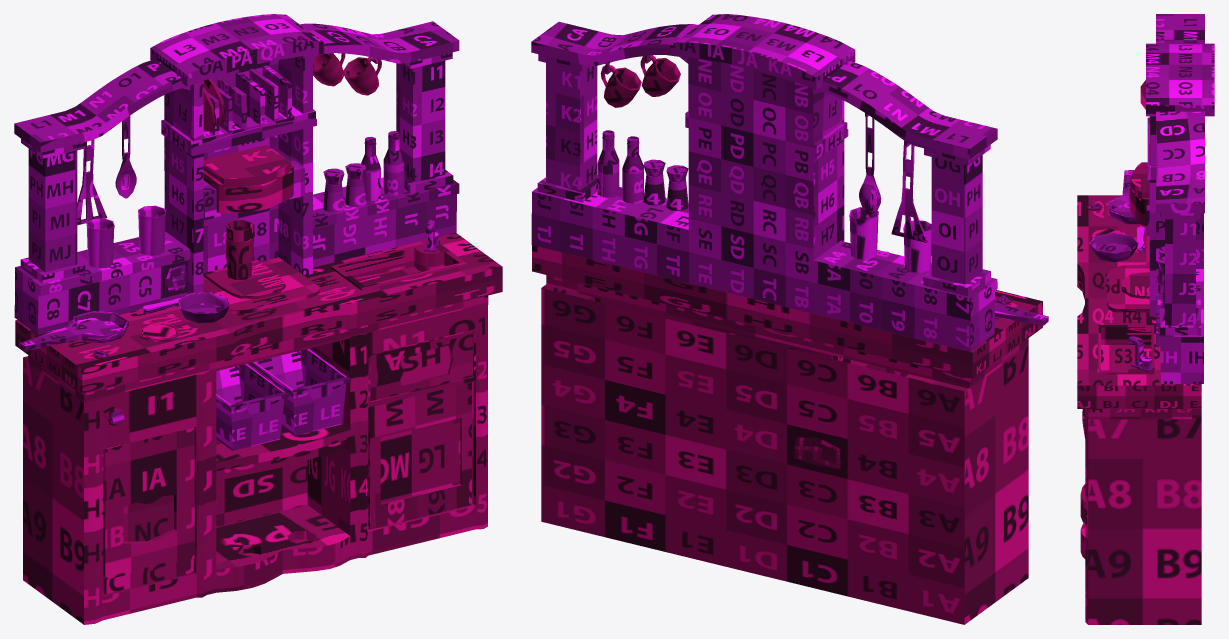
The model's file is ToyModel005.fbx.
3 renders of one model, left to right at view 1: azimuth 30°, elevation 25°; view 2: azimuth 150°, elevation 25°; view 3: azimuth 270°, elevation 25°, orthographic. The views are drawn at different scales.
Parts seen in each view (by area): view 1: White_Low, lightPink_Low, darkPink_Low, Oven_Door_Low, Fridge_Door_Low, Basket1_Low, Basket2_Low, Microwave_Door_Low, Coffee_Maker_Top_Low, Coffee_Maker_Base_Low, Pan_Low, Thermos_Low (+11 smaller); view 2: lightPink_Low, White_Low, darkPink_Low, Spatula_Low, Cup1_Low1, Sauce2_Low, Sauce1_Low, Cup1_Low, Laddle_Low, Mug_Base_Low1, Mug_Base_Low, PepperShaker_Low1 (+2 smaller); view 3: lightPink_Low, White_Low, darkPink_Low, Bowl1_Low, Pan_Low, Coffee_Maker_Top_Low, Coffee_Maker_Base_Low, Faucet_Low, PepperShaker_Low1.
Boxes of the visible parts, box(x1,y1,x2,y2) form: White_Low: box(14, 14, 459, 334); lightPink_Low: box(23, 304, 487, 624); darkPink_Low: box(15, 233, 502, 402); Oven_Door_Low: box(103, 427, 194, 594); Fridge_Door_Low: box(368, 382, 471, 529); Basket1_Low: box(248, 348, 351, 435); Basket2_Low: box(216, 363, 289, 450); Microwave_Door_Low: box(370, 331, 472, 401); Coffee_Maker_Top_Low: box(203, 144, 291, 187); Coffee_Maker_Base_Low: box(203, 165, 293, 213); Pan_Low: box(20, 311, 128, 351); Thermos_Low: box(225, 220, 253, 279); lightPink_Low: box(541, 284, 1028, 624); White_Low: box(531, 14, 997, 351); darkPink_Low: box(532, 245, 1042, 388); Spatula_Low: box(891, 141, 927, 242); Cup1_Low1: box(849, 207, 878, 259); Sauce2_Low: box(597, 130, 619, 197); Sauce1_Low: box(622, 136, 643, 203); Cup1_Low: box(903, 220, 931, 272); Laddle_Low: box(859, 117, 881, 215); Mug_Base_Low1: box(604, 67, 641, 107); Mug_Base_Low: box(641, 58, 680, 96); PepperShaker_Low1: box(643, 159, 665, 205); lightPink_Low: box(1080, 409, 1201, 624); White_Low: box(1146, 14, 1214, 383); darkPink_Low: box(1077, 195, 1201, 419); Bowl1_Low: box(1089, 232, 1138, 261); Pan_Low: box(1108, 170, 1139, 224); Coffee_Maker_Top_Low: box(1130, 162, 1149, 199); Coffee_Maker_Base_Low: box(1129, 187, 1149, 225); Faucet_Low: box(1128, 336, 1154, 371); PepperShaker_Low1: box(1157, 256, 1164, 295).
Bounding box in the file's own units: 10.05 × 10.69 × 2.85.
2 materials, 2 textured.
